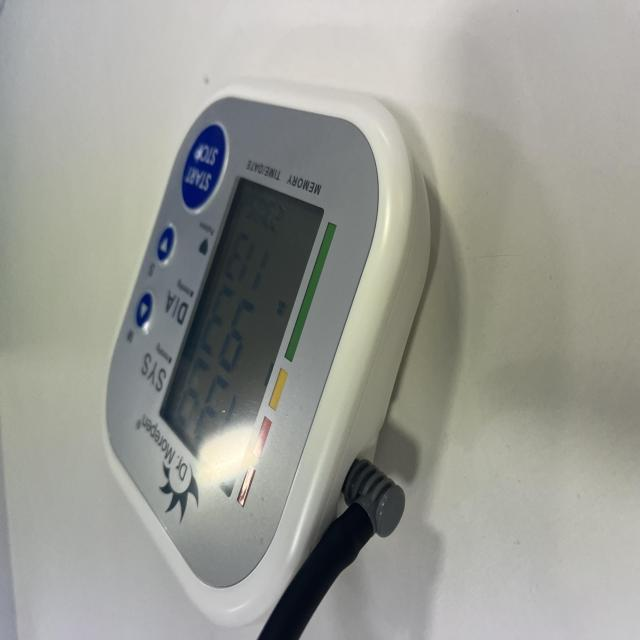bp: (103, 80, 457, 631)
